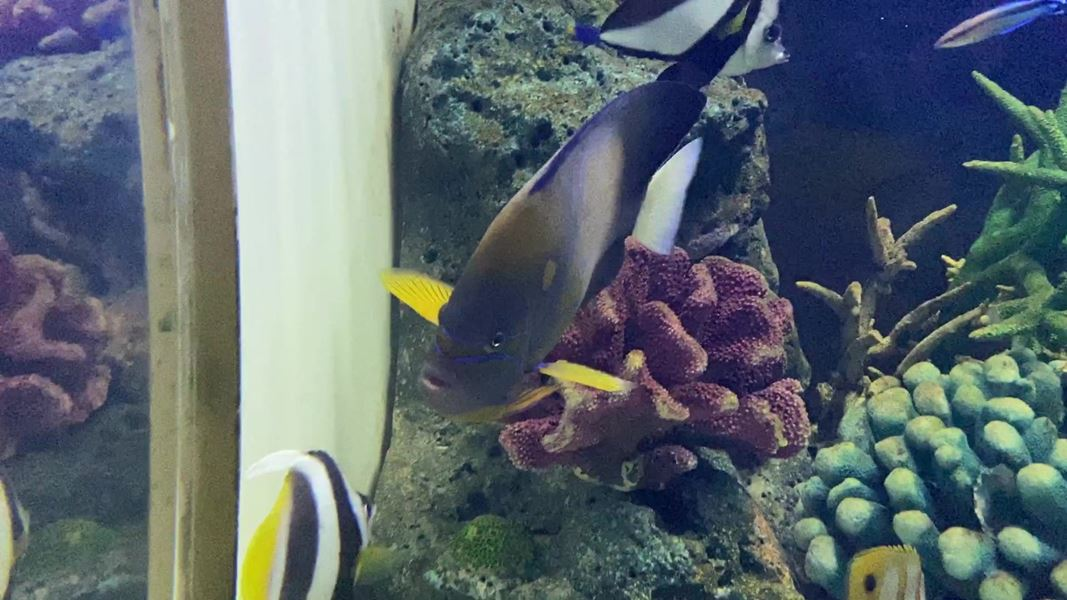Bluesteak cleaner wrasse: (920, 4, 1067, 66)
